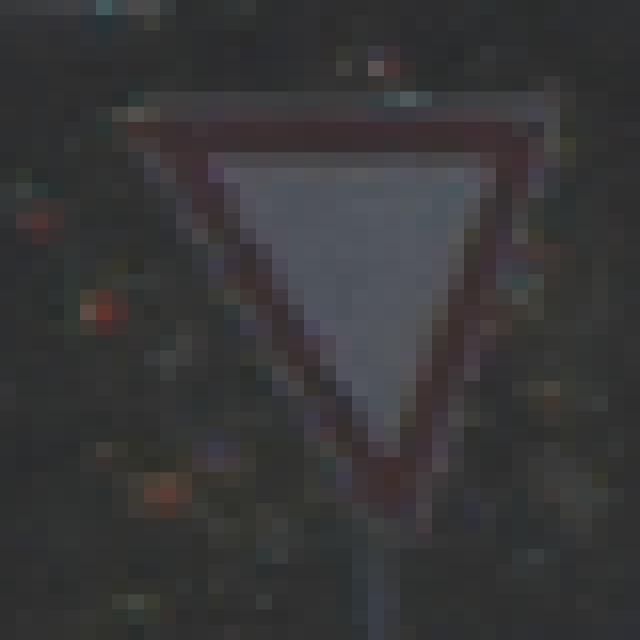Give Way: (97, 77, 561, 565)
